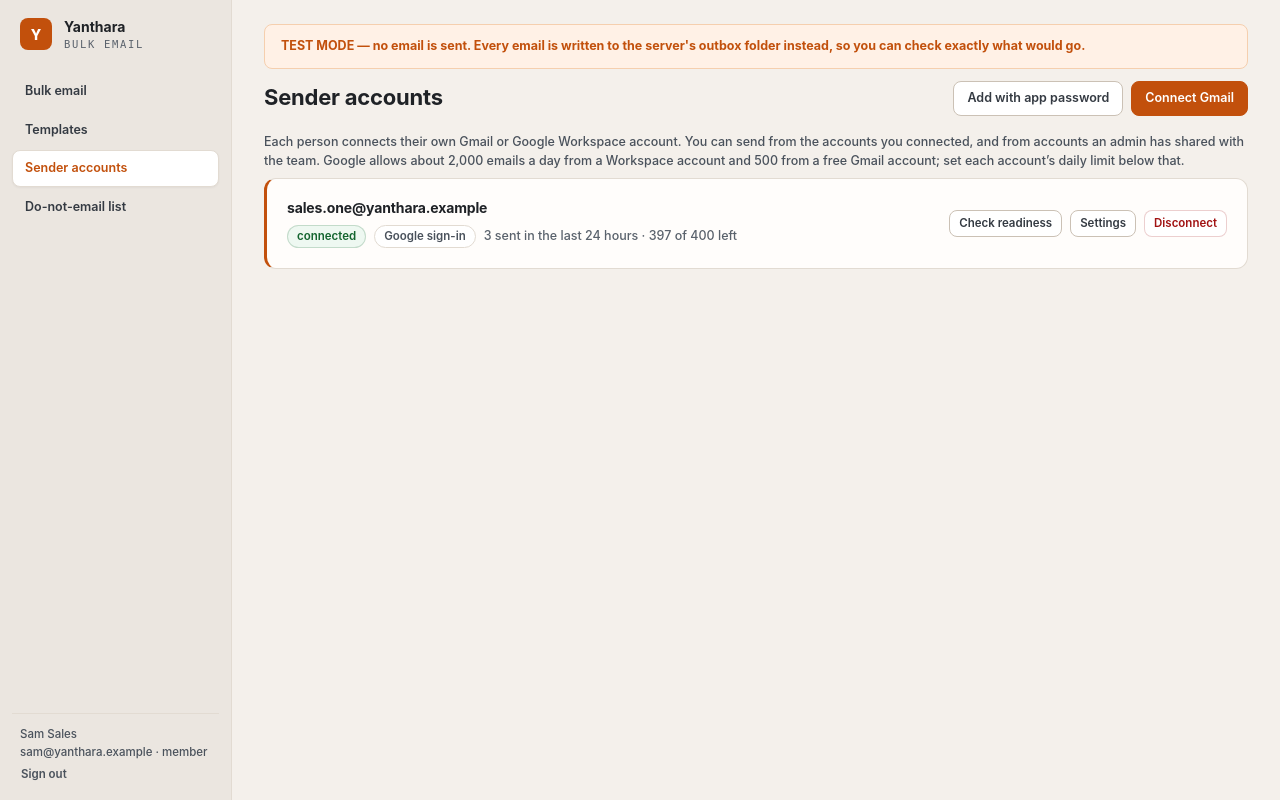
Test case: sender accounts › an account can be added with an app password: typed in a hidden field, sent once, never shown
The width and height of the screenshot is (1280, 800).
Check: the navigation bar named "Main" is shown, box top-left (12, 73), bottom-right (219, 226)
Step 1. Click the button "Add with app password" → point(1038, 98), box top-left (954, 81), bottom-right (1123, 116)
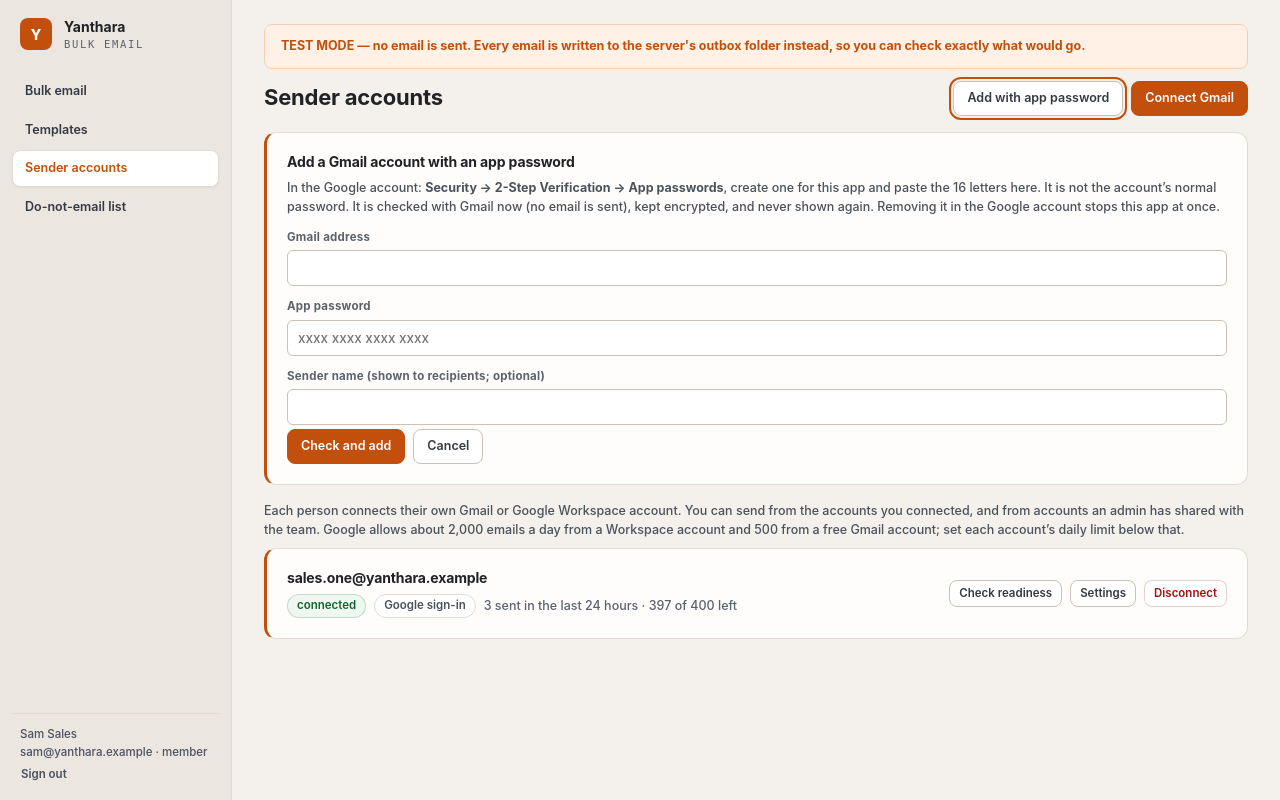
Step 2. Type "sales.team@gmail.example" into the field labelled "Gmail address" → point(757, 268), box top-left (287, 250), bottom-right (1227, 286)
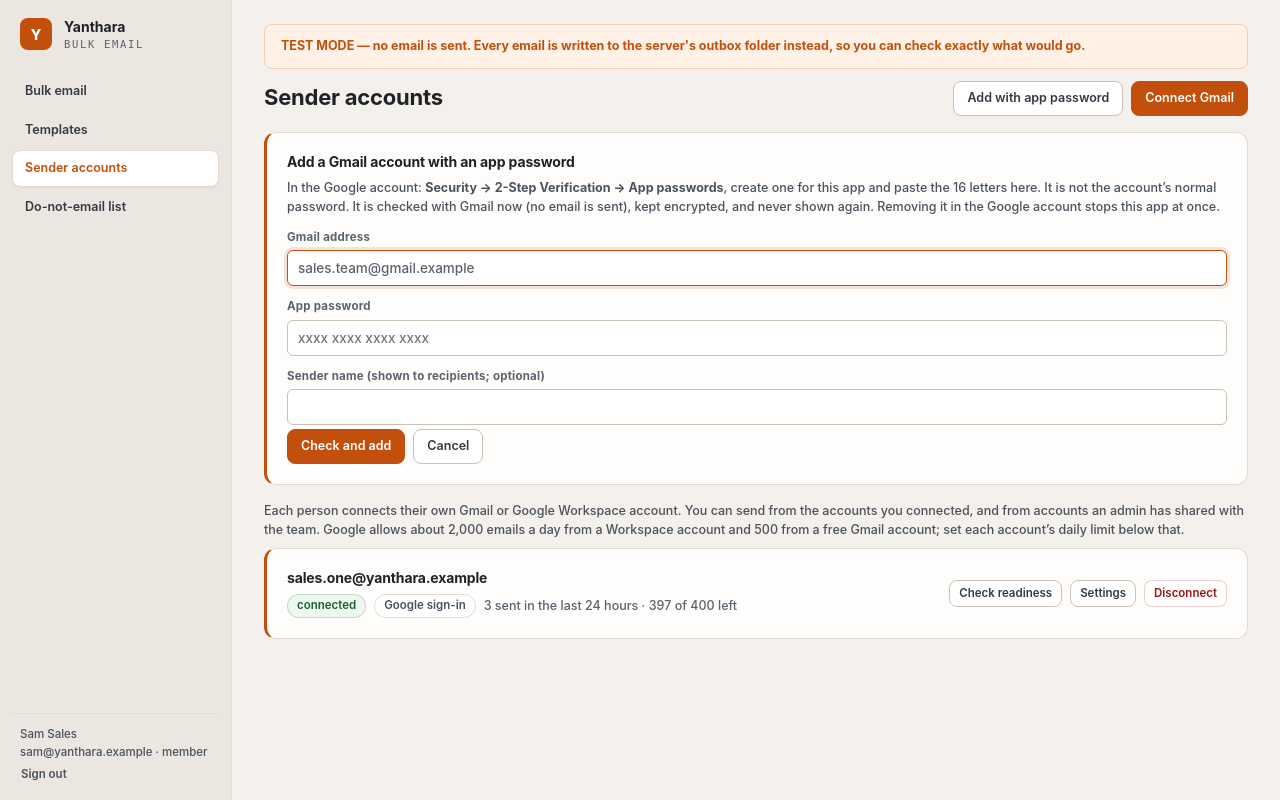
Step 3. Type "abcd efgh ijkl mnop" into the password field labelled "App password" → point(757, 338), box top-left (287, 320), bottom-right (1227, 356)
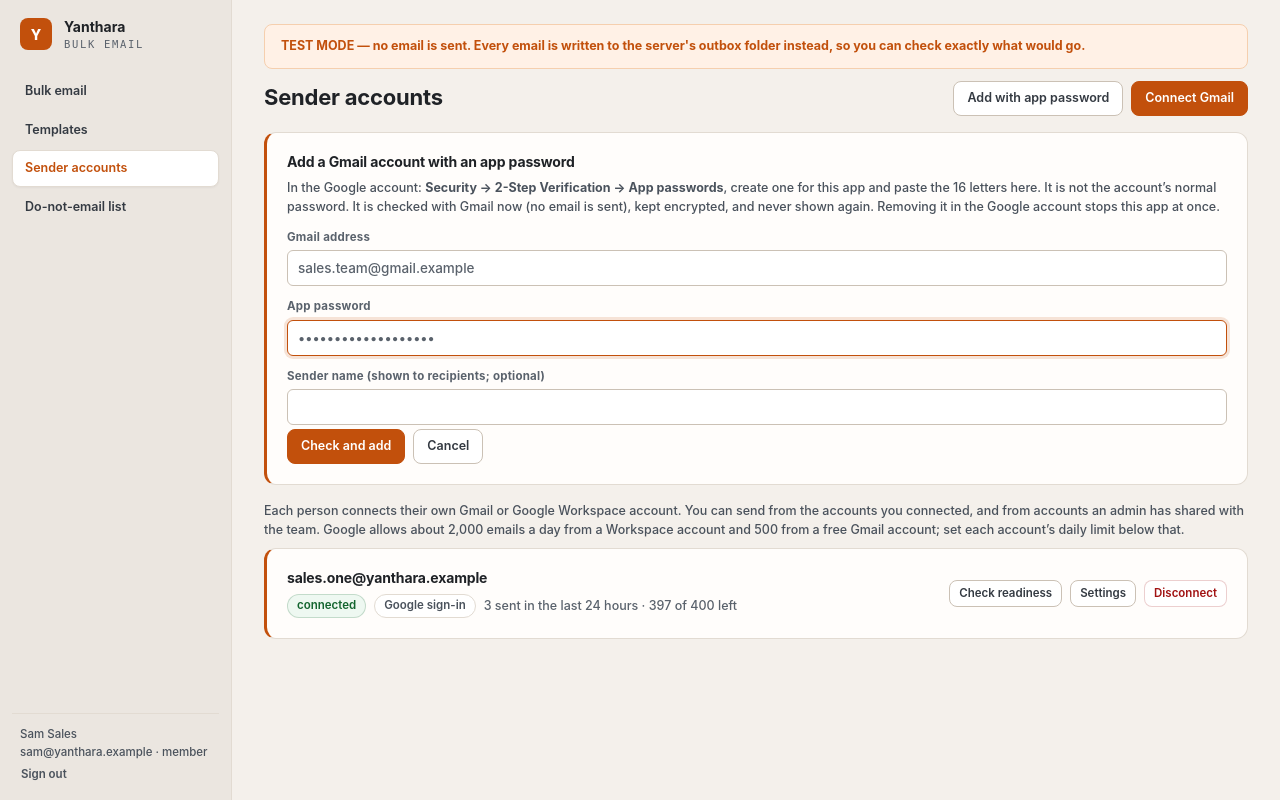
Step 4. Type "Sales Team" into the field labelled "Sender name (shown to recipients; optional)" → point(757, 407), box top-left (287, 389), bottom-right (1227, 425)
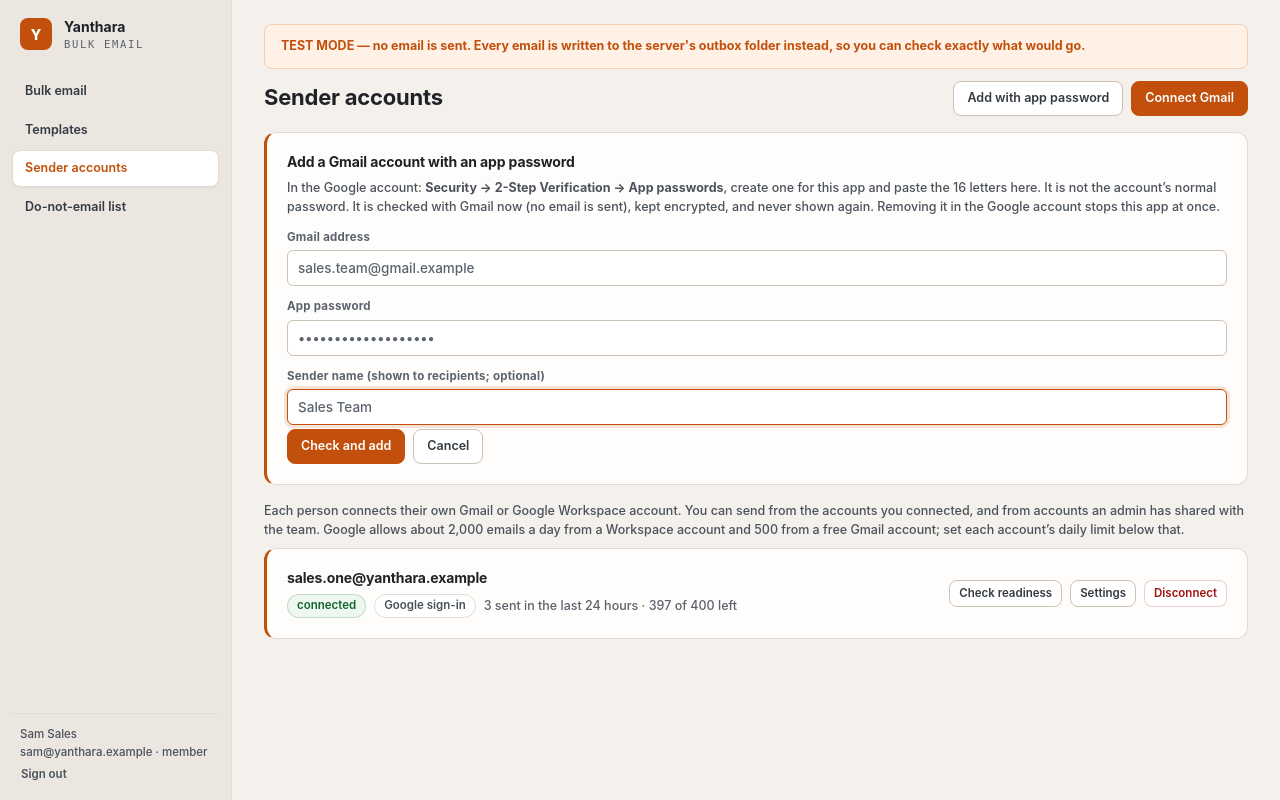
Step 5. Click the button "Check and add" → point(346, 447), box top-left (287, 429), bottom-right (405, 464)
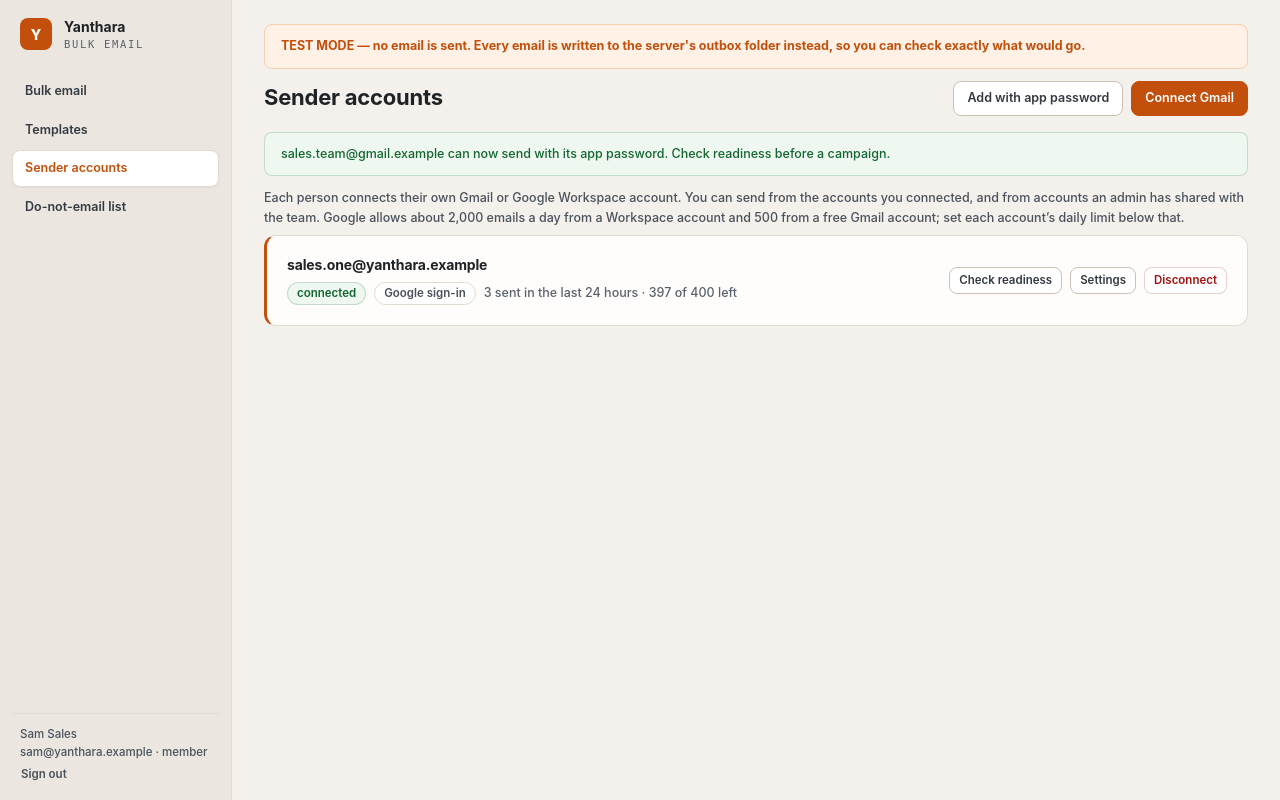
Check: the text "sales.team@gmail.example can now send with its app password" is shown, box top-left (281, 146), bottom-right (890, 160)
